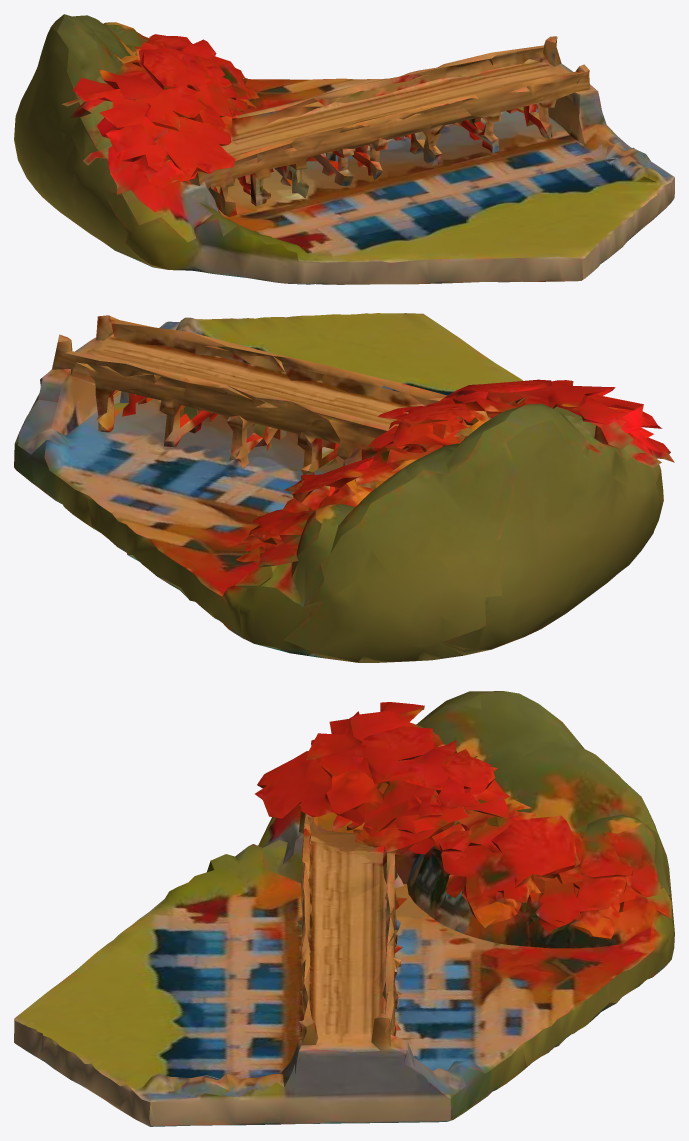
The model's file is togetsukyo.glb.
3 views of the same model, one above another, from view 1: azimuth 30°, elevation 25°; view 2: azimuth 150°, elevation 25°; view 3: azimuth 270°, elevation 25° (orthographic). The views are drawn at different scales.
Visible parts, largest first — view 1: logan-textured.obj; view 2: logan-textured.obj; view 3: logan-textured.obj.
Part boxes in pixels (box(x1,y1,x2,y2)): logan-textured.obj: box(14, 14, 674, 284); logan-textured.obj: box(14, 313, 674, 662); logan-textured.obj: box(14, 691, 674, 1126).
Size of the model in its own units: 0.9773 by 0.324 by 1.
Materials: 1 (1 with a texture image).
